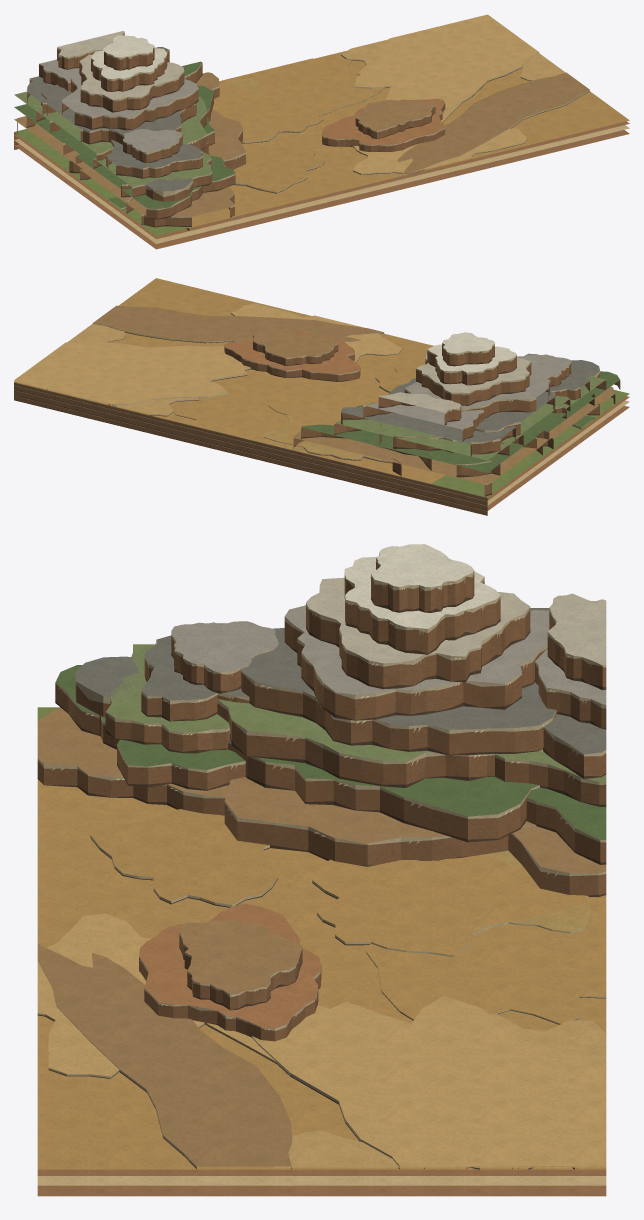
Rendered from terreno-0-2.glb.
3 renders of one model, top to bottom at view 1: azimuth 30°, elevation 25°; view 2: azimuth 150°, elevation 25°; view 3: azimuth 270°, elevation 25°, orthographic. The views are drawn at different scales.
Visible parts, largest first — view 1: terreno-0-2; view 2: terreno-0-2; view 3: terreno-0-2.
Part boxes in pixels (x1,y1,x2,y2): terreno-0-2: [14, 14, 629, 249]; terreno-0-2: [14, 278, 629, 515]; terreno-0-2: [37, 544, 606, 1196].
Bounding box in the file's own units: 100 × 24.49 × 52.
Materials: 1 (1 with a texture image).
